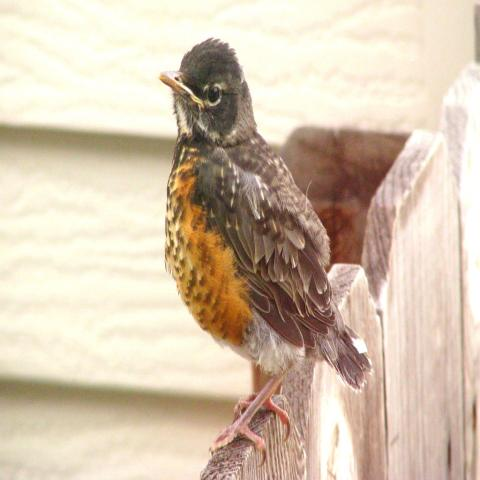bird: (155, 34, 374, 462)
